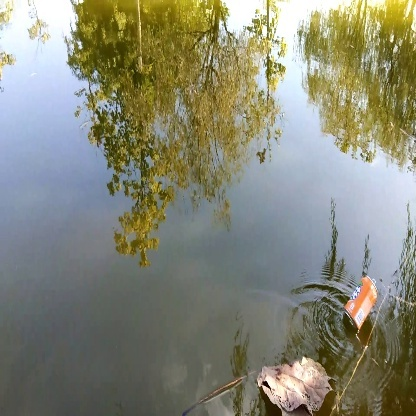bottle: (342, 275, 382, 334)
leaf: (220, 354, 339, 416)
